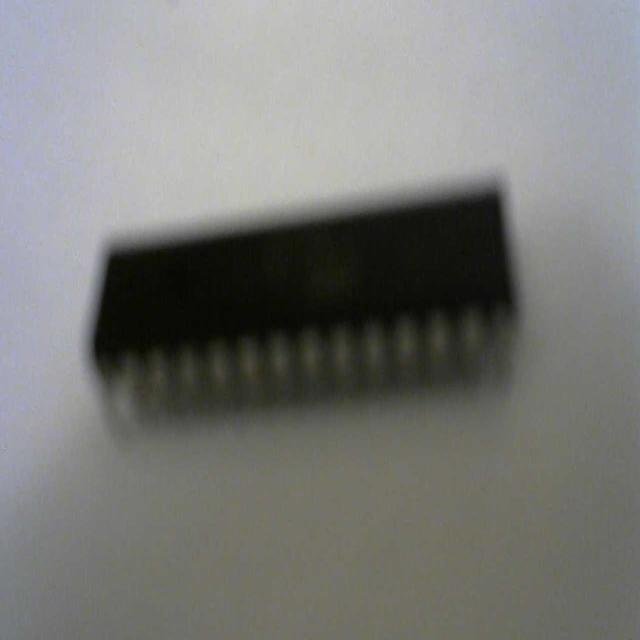atmega: (87, 172, 524, 436)
